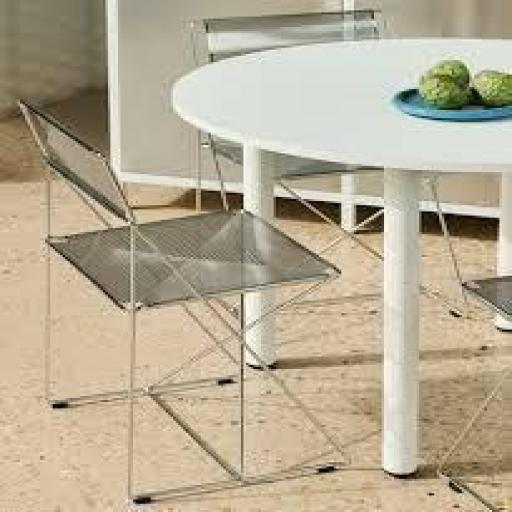chair: (12, 92, 366, 496)
